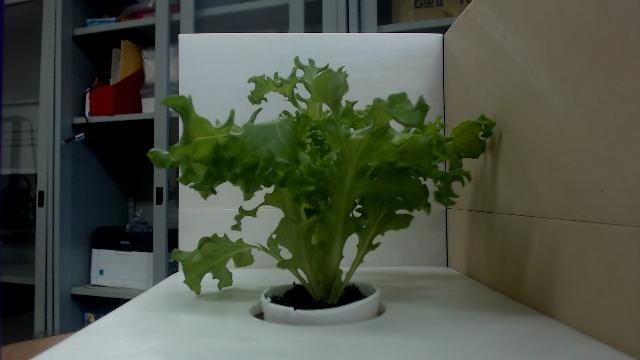Harvest Stage: (147, 54, 497, 306)
